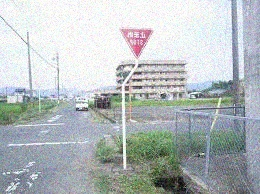Regulatory_sign_triangle: (118, 22, 157, 63)
